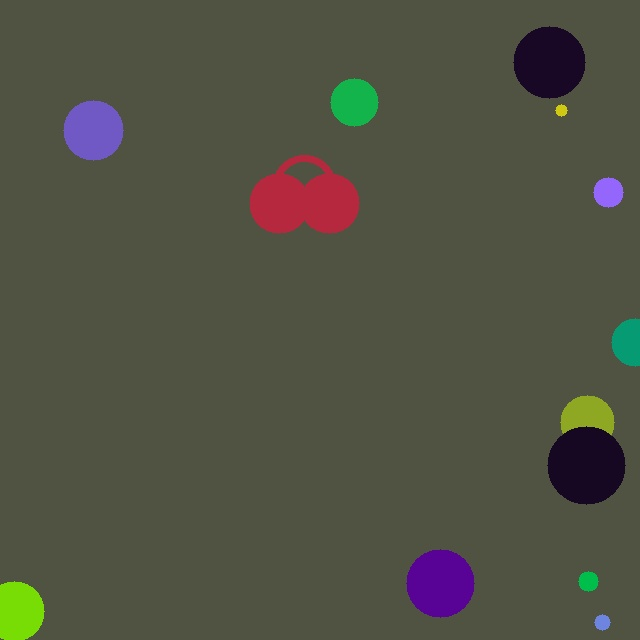over_ear: (245, 153, 363, 237)
